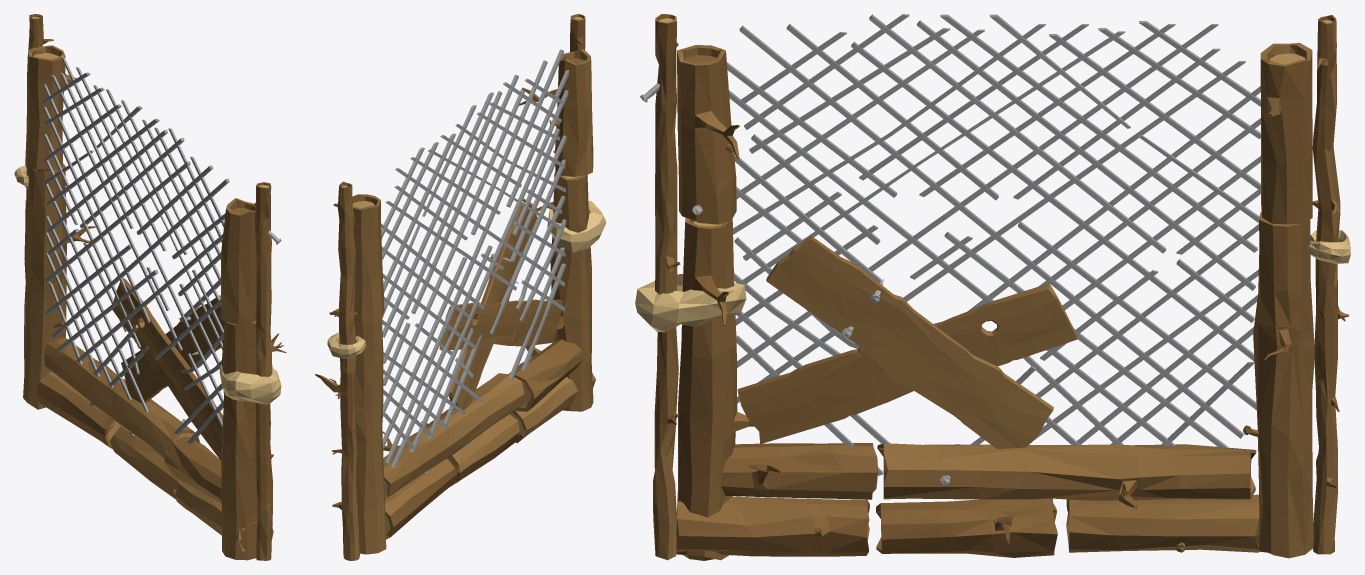
Rendered from metal_wire_fence.obj.
3 views of the same model, side by side, from view 1: azimuth 30°, elevation 25°; view 2: azimuth 150°, elevation 25°; view 3: azimuth 270°, elevation 25° (orthographic). The views are drawn at different scales.
Parts seen in each view (by area): view 1: metal_wire_fence_Material; view 2: metal_wire_fence_Material; view 3: metal_wire_fence_Material.
Boxes of the visible parts, x1,y1,x2,y2 form: metal_wire_fence_Material: (14,14,286,560); metal_wire_fence_Material: (315,14,606,560); metal_wire_fence_Material: (635,14,1350,560).
Bounding box in the file's own units: 0.3695 × 1.73 × 2.08.
